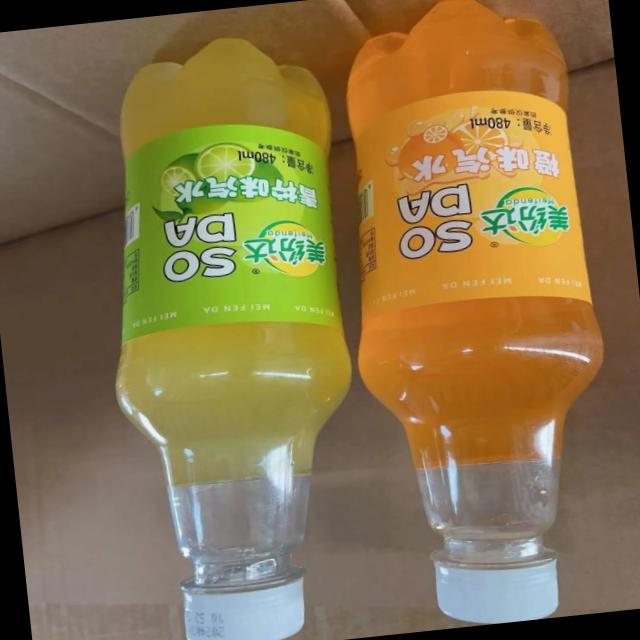bottle: (318, 0, 633, 634), (70, 22, 378, 640)
